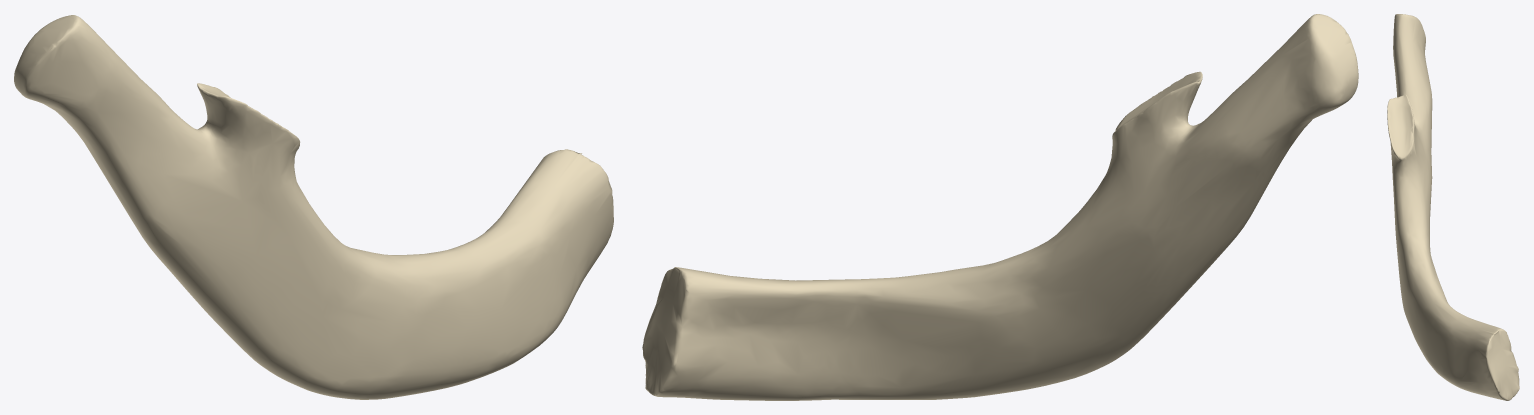
Rendered from esqueleto-costal-cartilage-of-seventh-rib-l.glb.
3 views of the same model, side by side, from view 1: azimuth 30°, elevation 25°; view 2: azimuth 150°, elevation 25°; view 3: azimuth 270°, elevation 25° (orthographic). The views are drawn at different scales.
Parts seen in each view (by area): view 1: Costal cartilage of seventh rib.l; view 2: Costal cartilage of seventh rib.l; view 3: Costal cartilage of seventh rib.l.
Boxes of the visible parts, box(x1,y1,x2,y2) form: Costal cartilage of seventh rib.l: box(14, 15, 613, 399); Costal cartilage of seventh rib.l: box(642, 14, 1358, 400); Costal cartilage of seventh rib.l: box(1387, 14, 1519, 400).
Bounding box in the file's own units: 0.1081 × 0.0755 × 0.0367.
